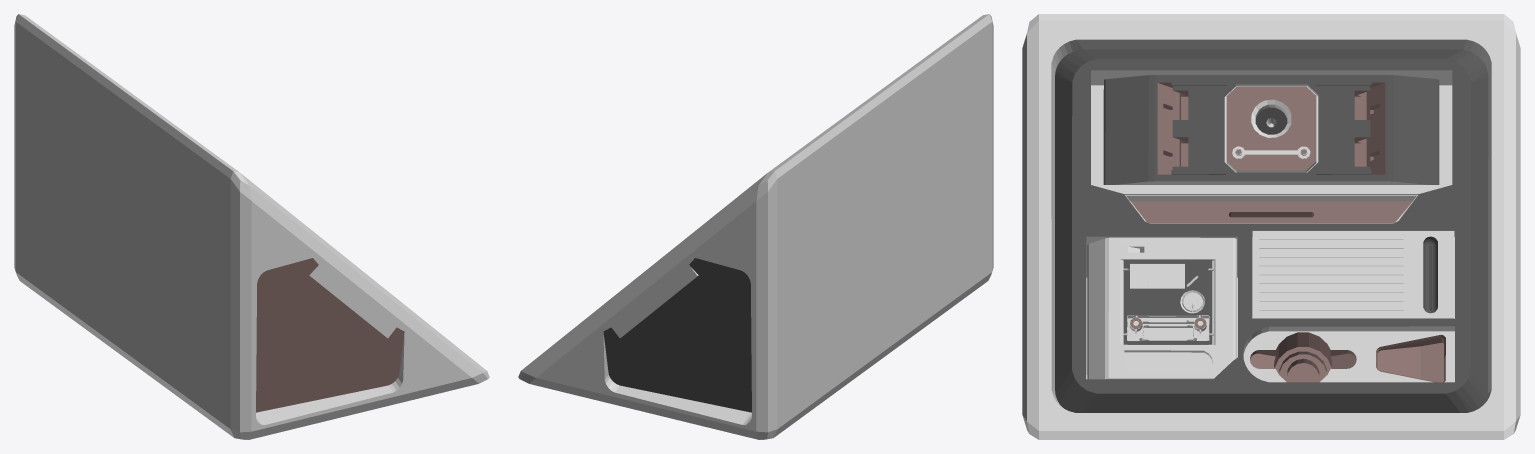
Rendered from SmallPanel2.fbx.
3 renders of one model, left to right at view 1: azimuth 30°, elevation 25°; view 2: azimuth 150°, elevation 25°; view 3: azimuth 270°, elevation 25°, orthographic. The views are drawn at different scales.
Parts seen in each view (by area): view 1: Cube.001; view 2: Cube.001; view 3: Cube.001.
Part boxes in pixels (x1,y1,x2,y2): Cube.001: (14,14,489,439); Cube.001: (518,14,993,439); Cube.001: (1022,14,1520,439).
Size of the model in its own units: 195 by 195 by 300.
